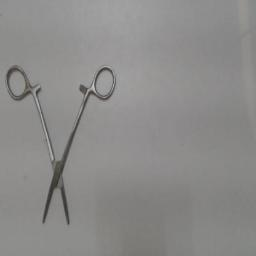Mayo Needle Holder: (3, 62, 119, 230)
